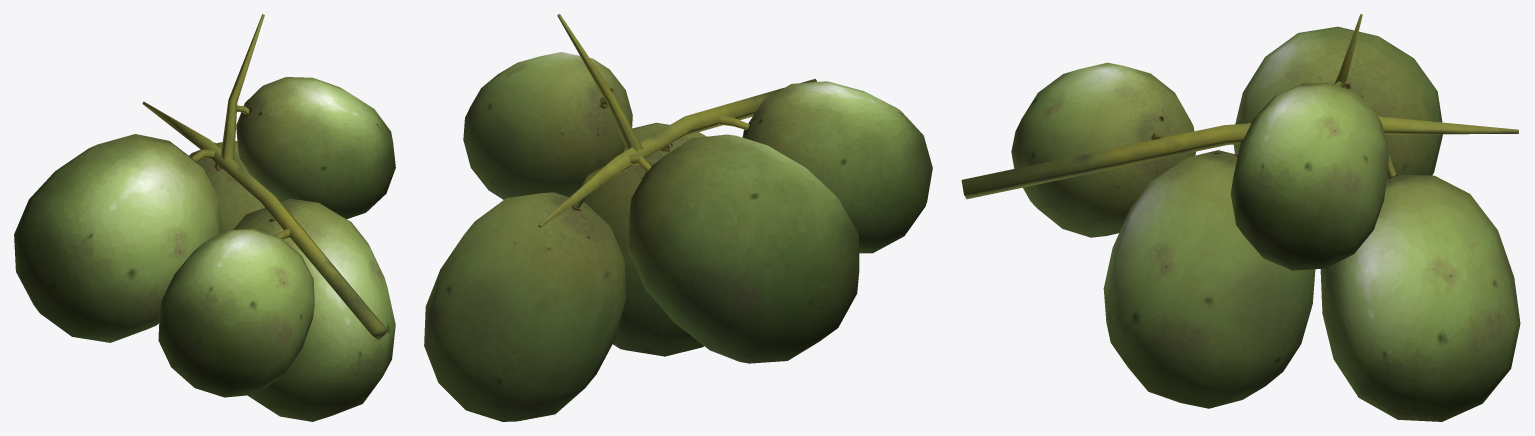
File: Choerospondias Fruit.fbx
3 views of the same model, side by side, from view 1: azimuth 30°, elevation 25°; view 2: azimuth 150°, elevation 25°; view 3: azimuth 270°, elevation 25° (orthographic). The views are drawn at different scales.
Parts seen in each view (by area): view 1: Fruit_LOD0; view 2: Fruit_LOD0; view 3: Fruit_LOD0.
Boxes of the visible parts, x1,y1,x2,y2 form: Fruit_LOD0: [14, 14, 395, 421]; Fruit_LOD0: [424, 14, 932, 421]; Fruit_LOD0: [961, 14, 1520, 421].
Size of what is drawn, in the model's own units: 12.57 by 11.9 by 15.21.
1 material, 1 textured.
